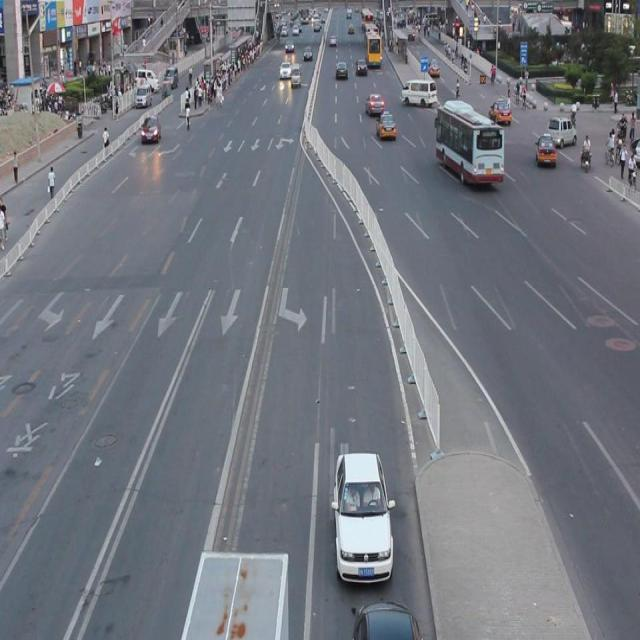bus: (180, 548, 288, 640)
car: (332, 450, 392, 581), (353, 597, 420, 640)
